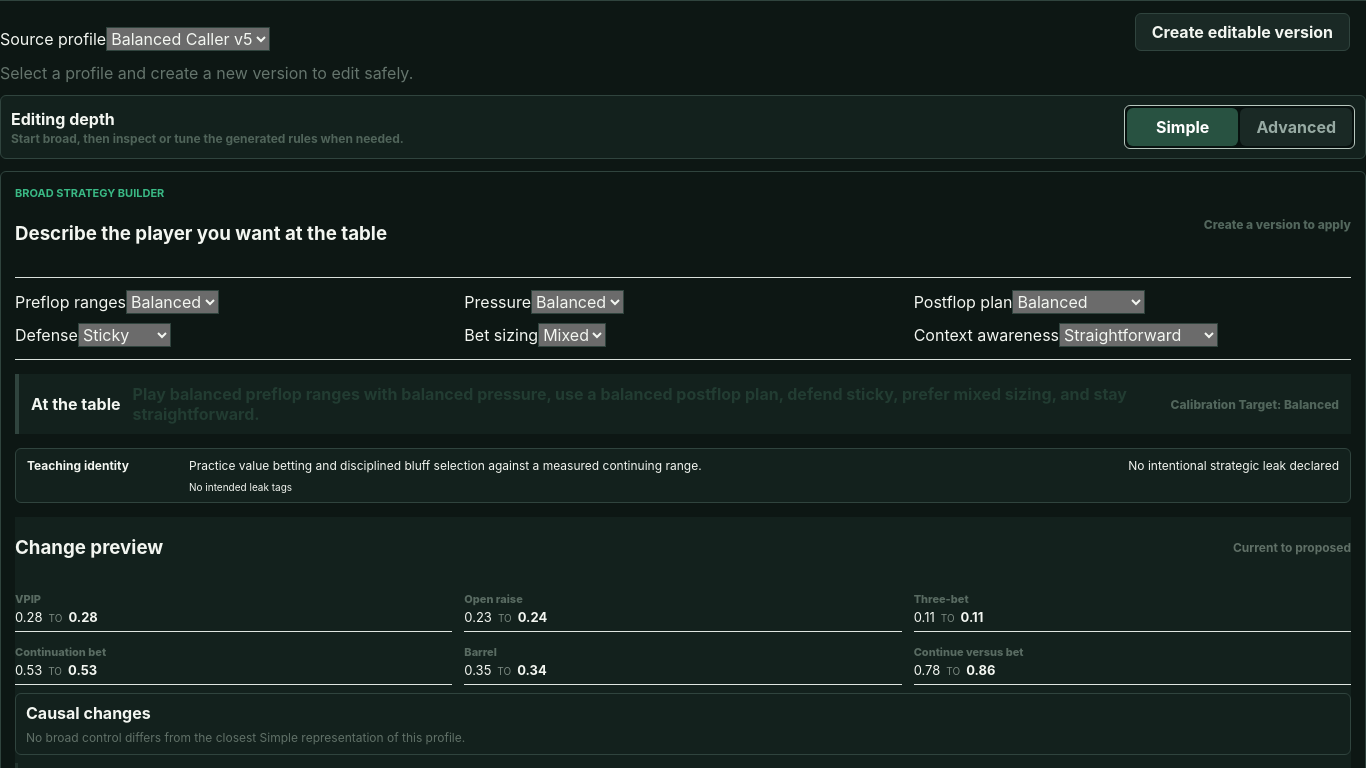
Test: Admin strategy workspace › starts with strategy intent, explains the model, and shows calibration again in Profile
Step 1. Click the button "Advanced" → click(1296, 127), box [1240, 108, 1352, 146]
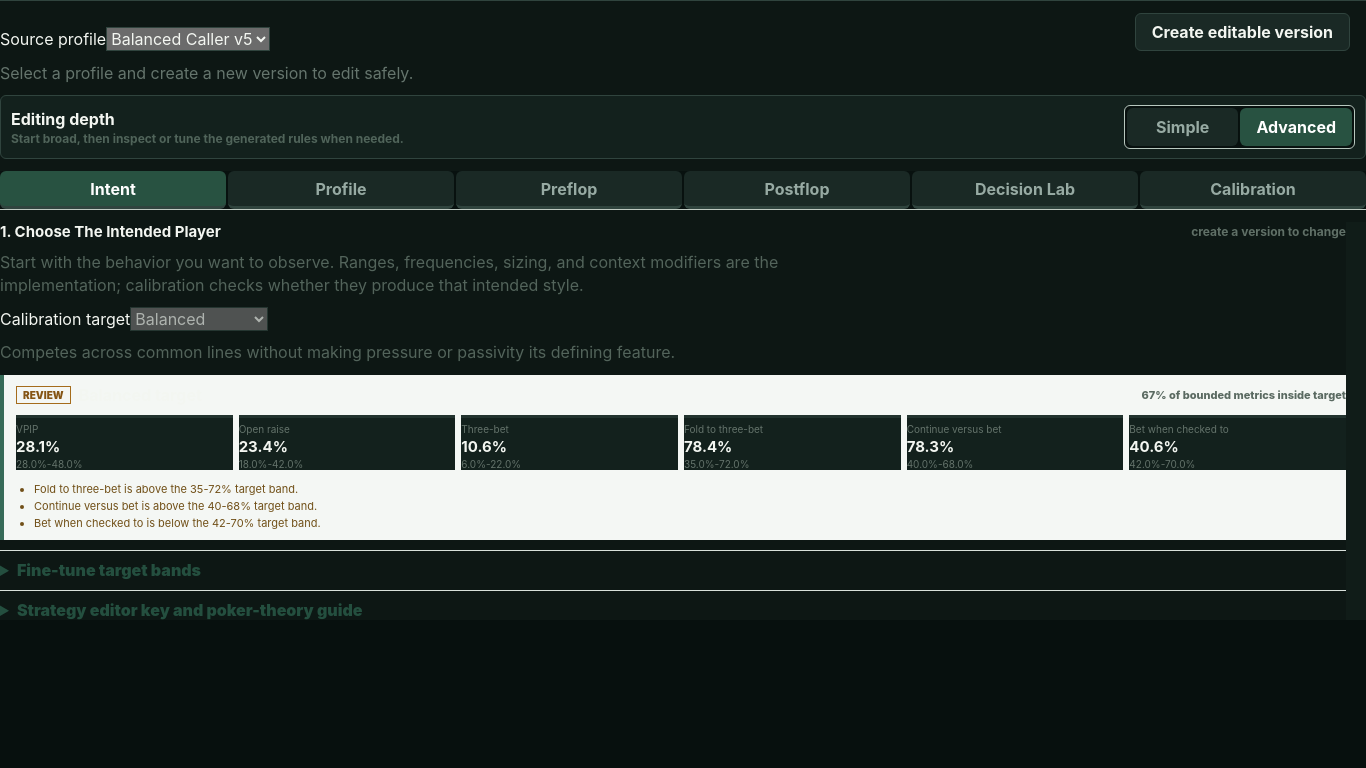
Expected: the dropdown named "Strategy calibration target" shows "Balanced", [130, 307, 268, 331]
Expected: the element named "Strategy calibration intent" is shown, [0, 222, 1346, 620]
Expected: the heading "Strategy editor key and poker-theory guide" is shown, [17, 600, 362, 620]
Step 2. Click the tab "Profile" → click(341, 190), box [228, 171, 454, 209]
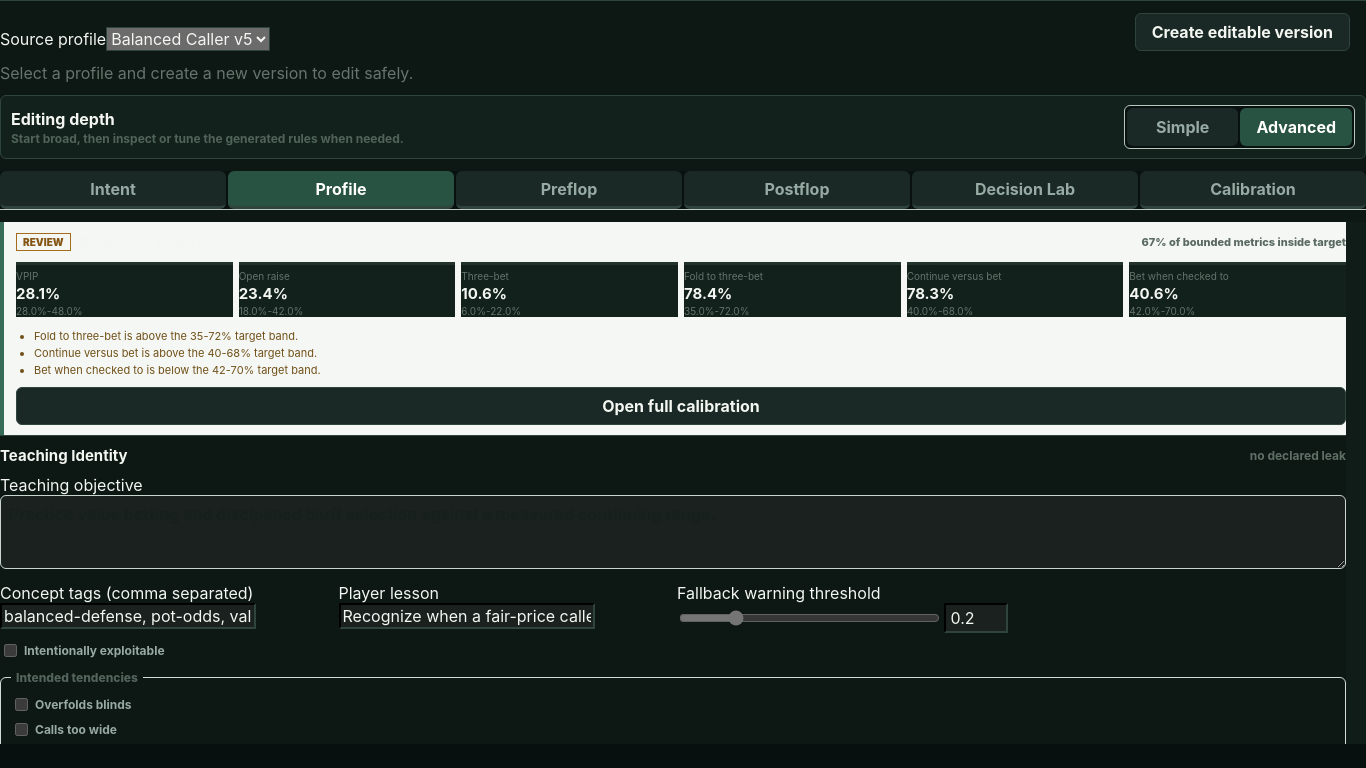
Expected: the element named "Strategy target summary" is shown, [0, 222, 1346, 435]
Expected: the button "Open full calibration" is shown, [16, 387, 1346, 425]
